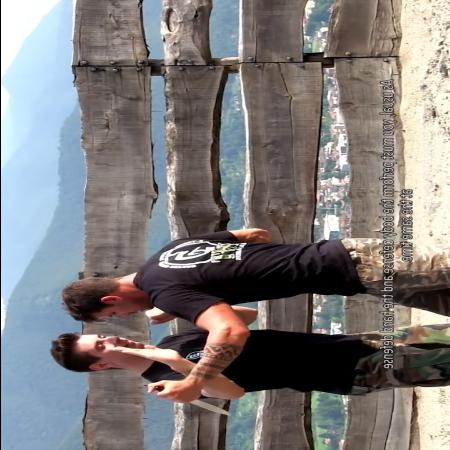long weapon: (144, 379, 233, 418)
